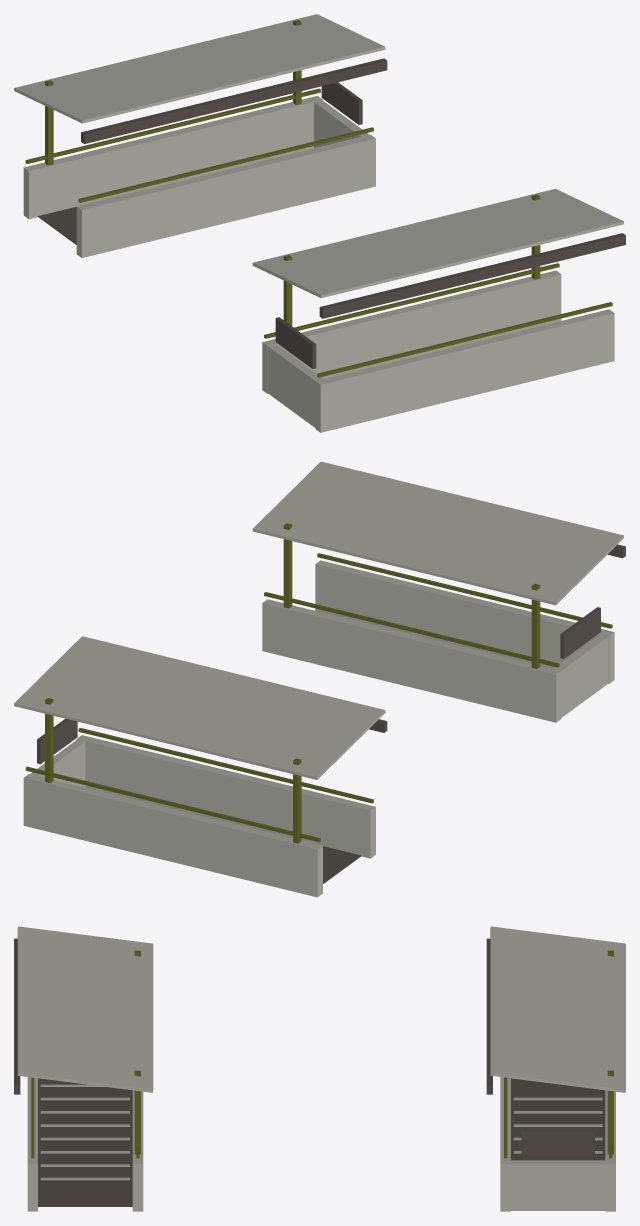
Rendered from SM_KitPaso_v0_LOD0.fbx.
3 views of the same model, one above another, from view 1: azimuth 30°, elevation 25°; view 2: azimuth 150°, elevation 25°; view 3: azimuth 270°, elevation 25° (orthographic).
Visible parts, largest first — view 1: SM_bloques.kit_paso_v0_LOD0; view 2: SM_bloques.kit_paso_v0_LOD0; view 3: SM_bloques.kit_paso_v0_LOD0.
Part boxes in pixels (x1=…): SM_bloques.kit_paso_v0_LOD0: x1=14, y1=14, x2=625, y2=432; SM_bloques.kit_paso_v0_LOD0: x1=14, y1=461, x2=625, y2=897; SM_bloques.kit_paso_v0_LOD0: x1=14, y1=926, x2=625, y2=1211.
Bounding box in the file's own units: 6.6 × 2.96 × 11.65.
